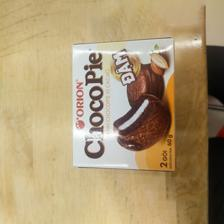Chocopie_cacao: (69, 37, 177, 173)
